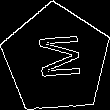M_W: (30, 34, 83, 84)
